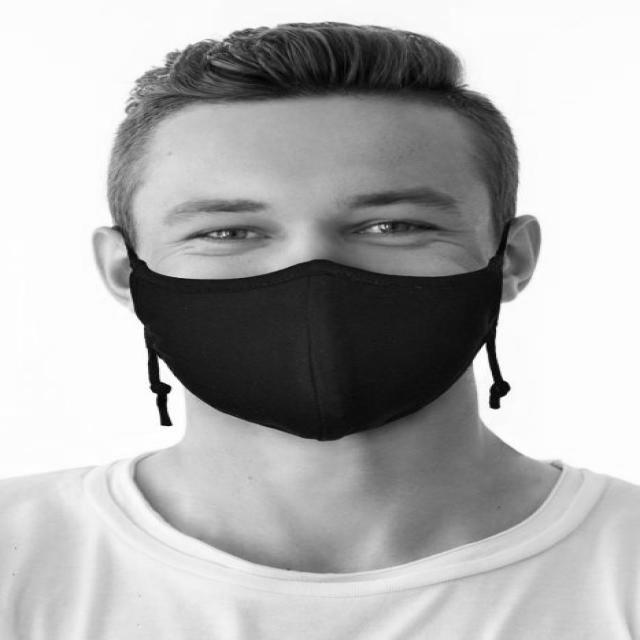fake: (112, 202, 554, 480)
real: (129, 98, 505, 452)
